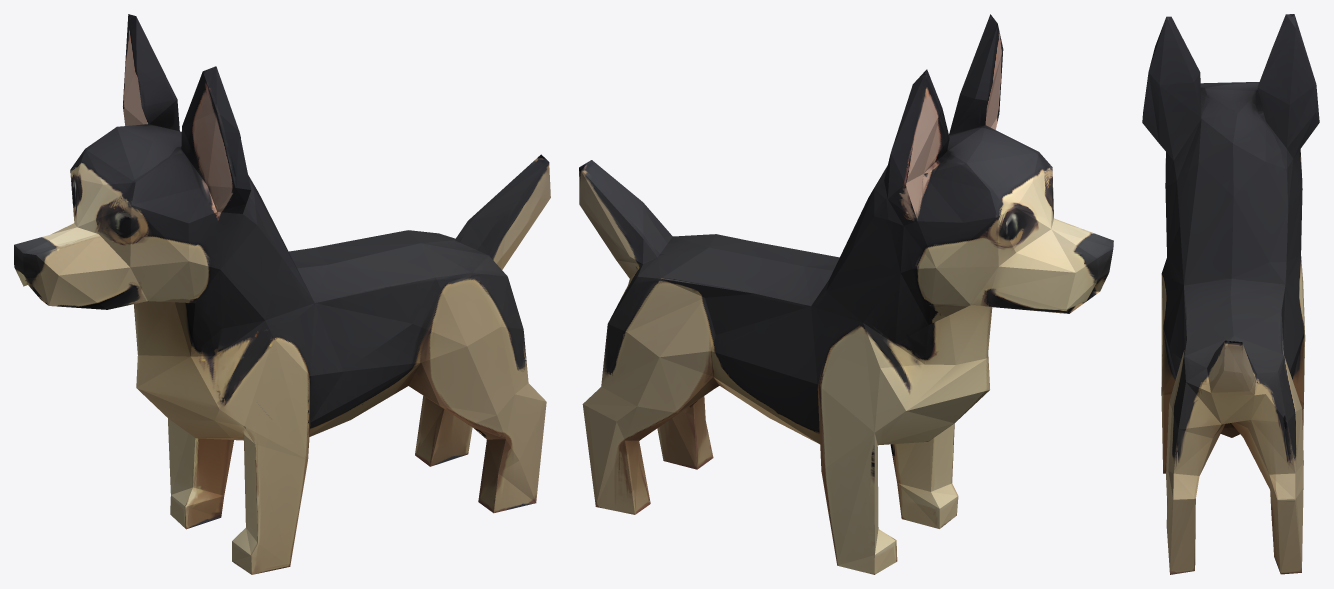
3 views of the same model, side by side, from view 1: azimuth 30°, elevation 25°; view 2: azimuth 150°, elevation 25°; view 3: azimuth 270°, elevation 25° (orthographic). The views are drawn at different scales.
Parts seen in each view (by area): view 1: Figure; view 2: Figure; view 3: Figure.
Part boxes in pixels (bbox=[...]): Figure: bbox=[14, 14, 550, 574]; Figure: bbox=[579, 14, 1113, 574]; Figure: bbox=[1142, 14, 1319, 574].
Size of the model in its own units: 0.4888 by 0.4573 by 0.1714.
1 material, 1 textured.
